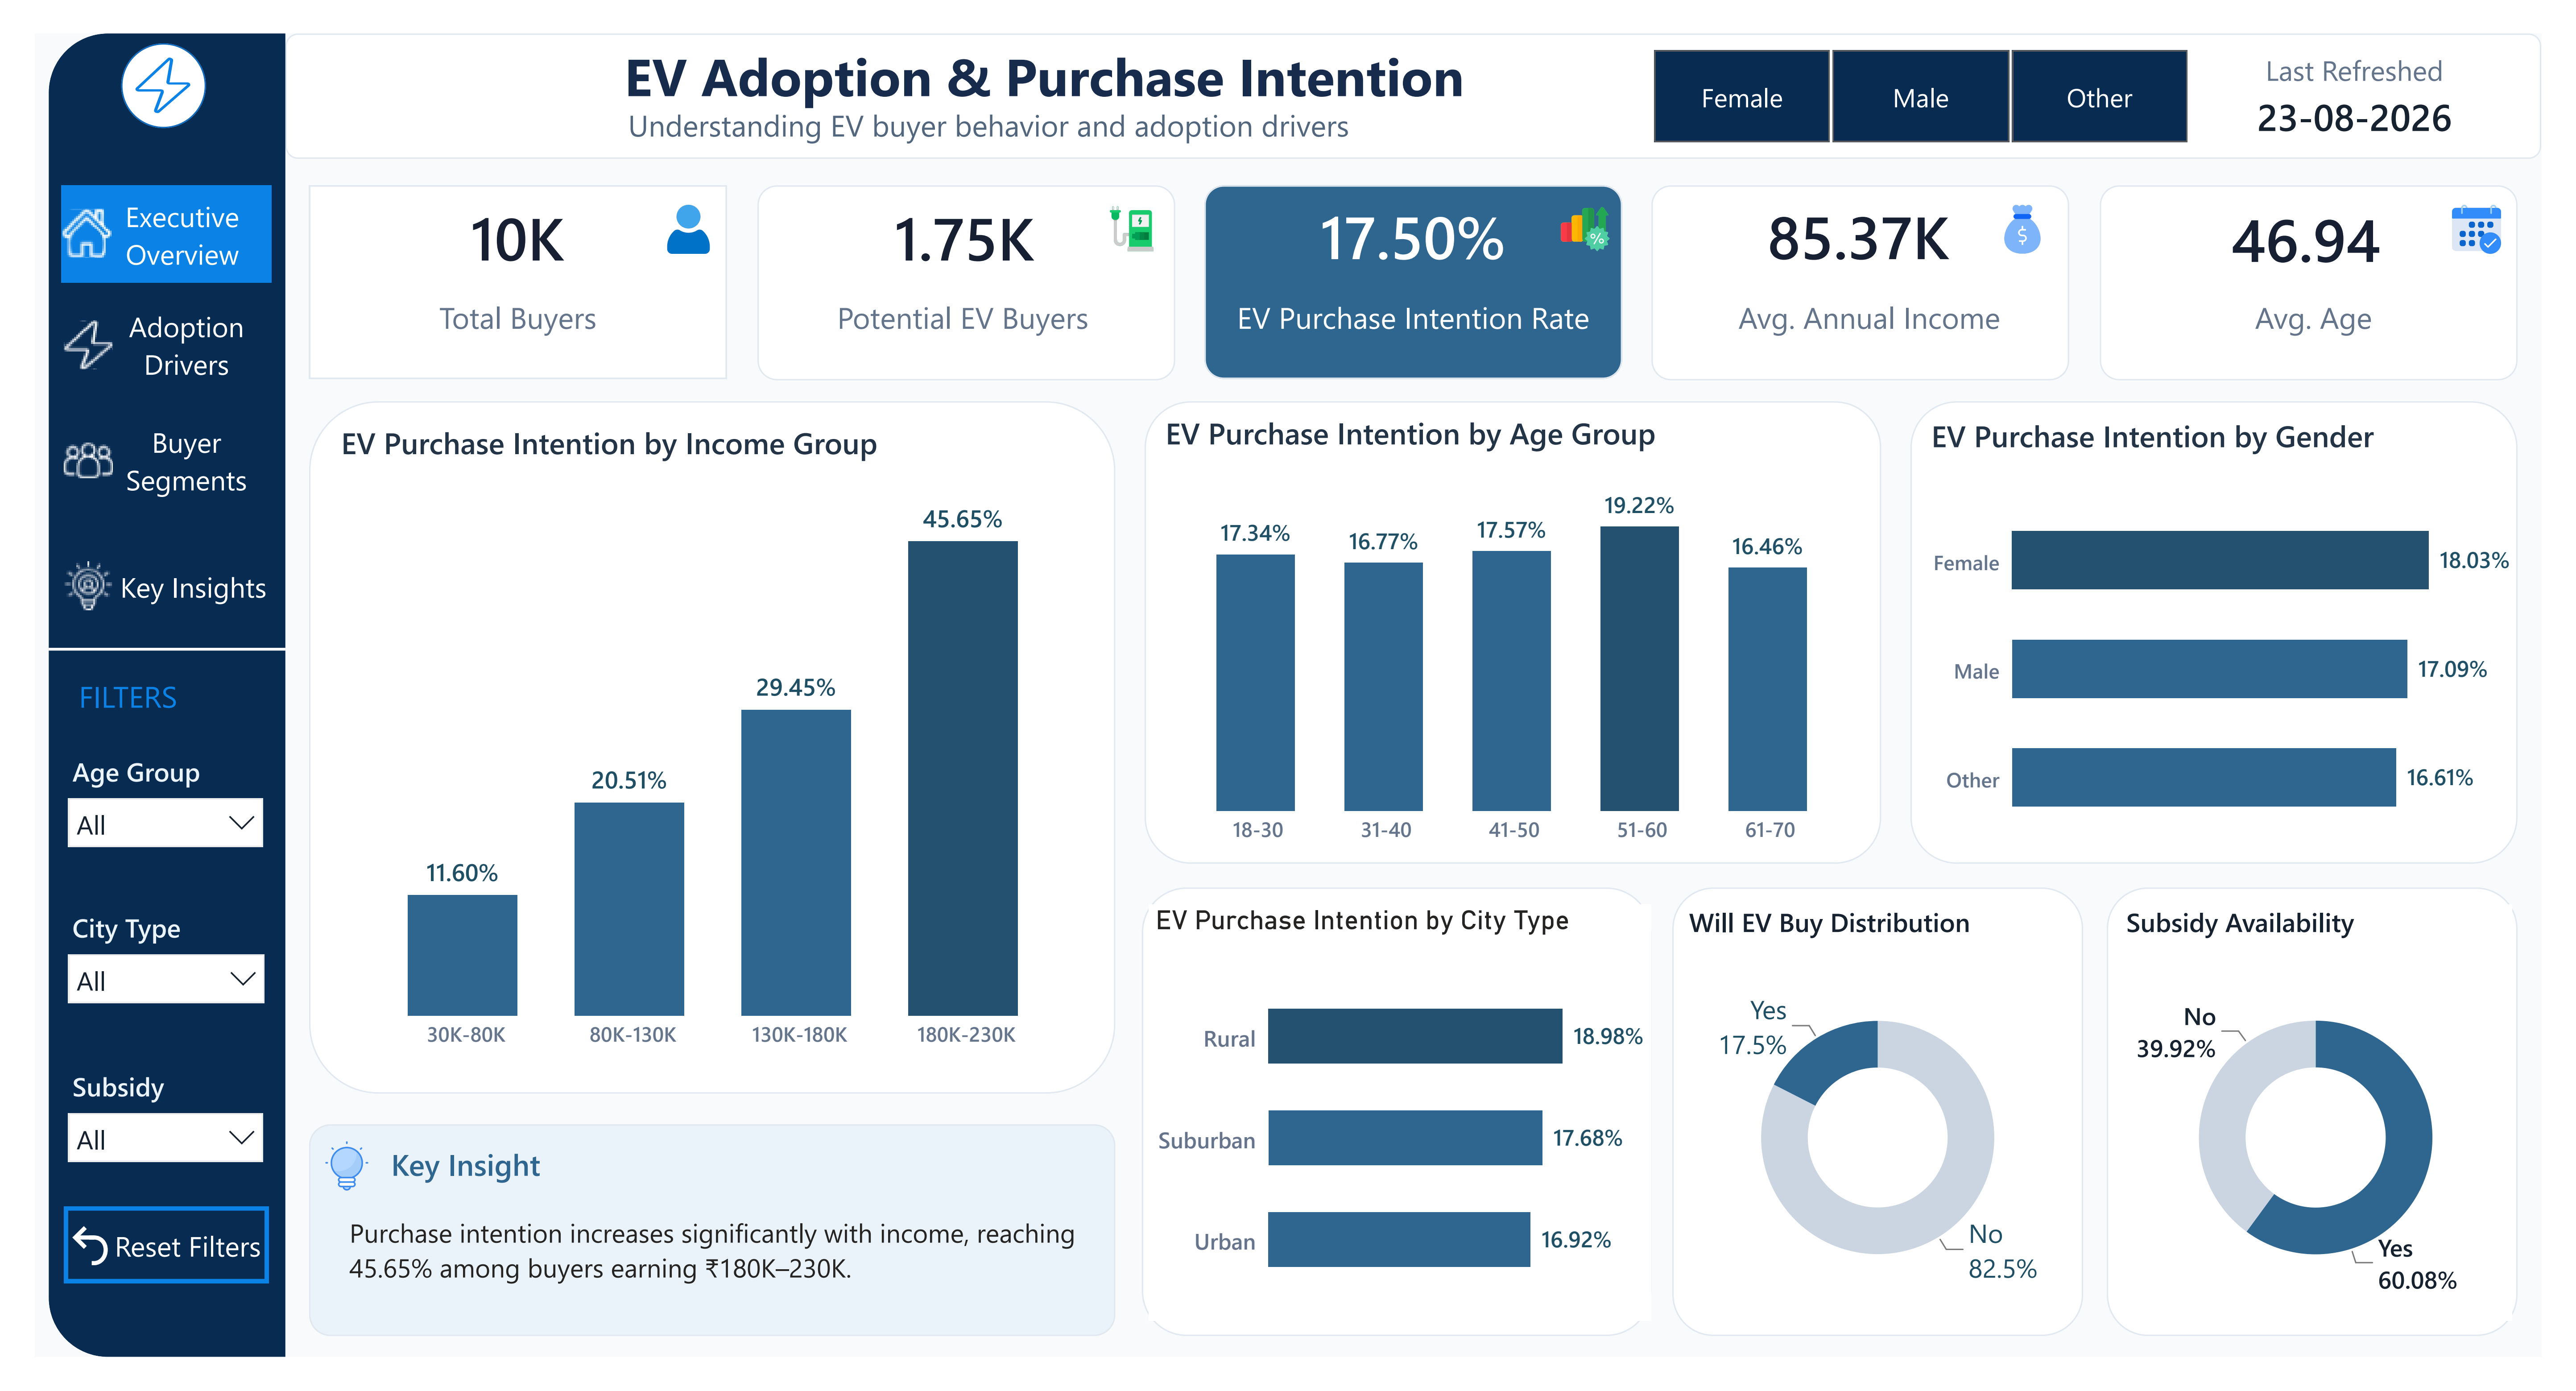

What the dashboard file says about the page in this screenshot:
{"tool":"powerbi","page":{"name":"Executive Overview","canvas":[1800,950],"ordinal":0},"visuals":[{"type":"shape","box":[180.5,0,1619.1,90],"z":0},{"type":"shape","box":[62.2,6.9,60.5,60.5],"z":0,"group":"g1"},{"type":"shape","box":[10.2,0,170,950],"z":1000},{"type":"image","box":[72.6,17.3,39.8,39.8],"z":1000,"group":"g1"},{"type":"textbox","box":[416,0,618,63],"z":2000},{"type":"textbox","box":[416,46,538,40],"z":3000},{"type":"shape","box":[197.5,108.9,299.6,139.6],"z":4000},{"type":"shape","box":[518.7,108.9,300,140],"z":5000},{"type":"shape","box":[840.2,108.9,299.6,139.6],"z":6000},{"type":"shape","box":[1161.4,108.9,300,140],"z":7000},{"type":"shape","box":[1482.9,108.9,300,140],"z":8000},{"type":"shape","box":[197.5,263.9,578.9,497.1],"z":9000},{"type":"shape","box":[1176.4,612.9,295,321.8],"z":10000},{"type":"shape","box":[1346.7,263.9,435.8,332],"z":11000},{"type":"shape","box":[796.8,263.9,529.5,332],"z":12000},{"type":"shape","box":[795.1,612.9,366,321.8],"z":13000},{"type":"shape","box":[1488,612.9,295,321.8],"z":14000},{"type":"cardVisual","fields":{"Data":["_Measures.Total Buyers"]},"box":[275.8,106,141.3,75],"z":15000},{"type":"textbox","box":[279.2,183.9,136.2,45],"z":16000},{"type":"cardVisual","fields":{"Data":["_Measures.Potential EV Buyers"]},"box":[582.3,106,171.2,76.1],"z":17000},{"type":"textbox","box":[558.4,183.9,216.2,44.3],"z":18000},{"type":"cardVisual","fields":{"Data":["_Measures.EV Purchase Intention Rate"]},"box":[887,103.9,206,78.3],"z":19000},{"type":"textbox","box":[849.7,183.9,280,44.5],"z":20000},{"type":"cardVisual","fields":{"Data":["_Measures.Avg Annual Income"]},"box":[1212.2,106,195.5,75],"z":21000},{"type":"textbox","box":[1208.8,183.9,216.8,44.5],"z":22000},{"type":"cardVisual","fields":{"Data":["_Measures.Avg Age"]},"box":[1526,106,210,78],"z":23000},{"type":"textbox","box":[1564.6,183.9,143.2,44.5],"z":24000},{"type":"clusteredColumnChart","title":"EV Purchase Intention by Income Group","fields":{"Category":["ev_adoption.Income Group"],"Y":["_Measures.EV Purchase Intention Rate"]},"box":[214.5,279.2,549.9,459.7],"z":25000},{"type":"shape","box":[197.5,783.2,578.9,151.5],"z":26000},{"type":"clusteredColumnChart","title":"EV Purchase Intention by Age Group","fields":{"Y":["_Measures.EV Purchase Intention Rate"],"Category":["ev_adoption.age_group"]},"box":[807,272.4,510.8,320.1],"z":27000},{"type":"clusteredBarChart","title":"EV Purchase Intention by Gender","fields":{"Category":["ev_adoption.gender"],"Y":["_Measures.EV Purchase Intention Rate"]},"box":[1356.9,274.1,425.6,321.8],"z":28000},{"type":"clusteredBarChart","title":"EV Purchase Intention by City Type","fields":{"Category":["ev_adoption.city_type"],"Y":["_Measures.EV Purchase Intention Rate"]},"box":[800.2,624.8,360.9,299.6],"z":29000},{"type":"donutChart","title":"Will EV Buy Distribution","fields":{"Category":["ev_adoption.will_buy_ev"],"Y":["_Measures.Total Buyers"]},"box":[1183.2,624.8,280.9,299.6],"z":30000},{"type":"donutChart","title":"Subsidy Availability","fields":{"Category":["ev_adoption.subsidy_available"],"Y":["_Measures.Total Buyers"]},"box":[1496.5,624.8,282.6,299.6],"z":31000},{"type":"textbox","box":[250.3,791.7,119.2,40.9],"z":32000},{"type":"textbox","box":[221.3,842.7,536.3,64.7],"z":33000},{"type":"slicer","fields":{"Values":["ev_adoption.age_group"]},"box":[13.8,511.8,160.6,89],"z":34000},{"type":"slicer","fields":{"Values":["ev_adoption.city_type"]},"box":[13.8,624.2,160.8,89.9],"z":35000},{"type":"slicer","fields":{"Values":["ev_adoption.subsidy_available"]},"box":[13.8,738.3,160.6,89],"z":36000},{"type":"actionButton","box":[20.7,842.1,147,55.3],"z":37000},{"type":"shape","box":[18.7,109,151.5,69.8],"z":38000},{"type":"group","id":"g1","title":"Group 1","box":[62.2,6.9,60.5,60.5],"z":39000},{"type":"actionButton","box":[20.4,109,145.2,69.2],"z":40000},{"type":"actionButton","box":[20.7,188.5,150.4,69.2],"z":41000},{"type":"actionButton","box":[20.7,271.5,150.4,69.2],"z":42000},{"type":"actionButton","box":[20.7,361.4,150.4,69.2],"z":43000},{"type":"shape","box":[10.4,435.7,169.5,12.1],"z":44000},{"type":"textbox","box":[10.4,456.5,114.1,38],"z":45000},{"type":"cardVisual","fields":{"Data":["_Measures.Last Refreshed"]},"box":[1535.4,0,262.8,89.9],"z":46000},{"type":"image","box":[451.2,122.6,35.8,35.8],"z":47000},{"type":"image","box":[769.5,122.6,35.8,35.8],"z":48000},{"type":"image","box":[1096.4,122.6,35,35],"z":49000},{"type":"image","box":[1409.7,122.6,35,35],"z":50000},{"type":"image","box":[1734.9,122.6,35.8,35.8],"z":51000},{"type":"image","box":[206,795.1,35.8,35.8],"z":52000},{"type":"slicer","fields":{"Values":["ev_adoption.gender"]},"box":[1137.3,5.1,432.4,80],"z":53000}]}

Visuals, with their boxes on the page's 1800x950 design canvas (x1, y1, x2, y2). These are canvas units, not pixel positions in the 2576x1391 screenshot, which may show the page scaled, cropped or inside an application window:
shape: BBox(180, 0, 1800, 90)
shape: BBox(62, 7, 123, 67)
shape: BBox(10, 0, 180, 950)
image: BBox(73, 17, 112, 57)
textbox: BBox(416, 0, 1034, 63)
textbox: BBox(416, 46, 954, 86)
shape: BBox(198, 109, 497, 248)
shape: BBox(519, 109, 819, 249)
shape: BBox(840, 109, 1140, 248)
shape: BBox(1161, 109, 1461, 249)
shape: BBox(1483, 109, 1783, 249)
shape: BBox(198, 264, 776, 761)
shape: BBox(1176, 613, 1471, 935)
shape: BBox(1347, 264, 1782, 596)
shape: BBox(797, 264, 1326, 596)
shape: BBox(795, 613, 1161, 935)
shape: BBox(1488, 613, 1783, 935)
cardVisual - _Measures.Total Buyers: BBox(276, 106, 417, 181)
textbox: BBox(279, 184, 415, 229)
cardVisual - _Measures.Potential EV Buyers: BBox(582, 106, 754, 182)
textbox: BBox(558, 184, 775, 228)
cardVisual - _Measures.EV Purchase Intention Rate: BBox(887, 104, 1093, 182)
textbox: BBox(850, 184, 1130, 228)
cardVisual - _Measures.Avg Annual Income: BBox(1212, 106, 1408, 181)
textbox: BBox(1209, 184, 1426, 228)
cardVisual - _Measures.Avg Age: BBox(1526, 106, 1736, 184)
textbox: BBox(1565, 184, 1708, 228)
"EV Purchase Intention by Income Group" clusteredColumnChart: BBox(214, 279, 764, 739)
shape: BBox(198, 783, 776, 935)
"EV Purchase Intention by Age Group" clusteredColumnChart: BBox(807, 272, 1318, 592)
"EV Purchase Intention by Gender" clusteredBarChart: BBox(1357, 274, 1782, 596)
"EV Purchase Intention by City Type" clusteredBarChart: BBox(800, 625, 1161, 924)
"Will EV Buy Distribution" donutChart: BBox(1183, 625, 1464, 924)
"Subsidy Availability" donutChart: BBox(1496, 625, 1779, 924)
textbox: BBox(250, 792, 370, 833)
textbox: BBox(221, 843, 758, 907)
slicer - ev_adoption.age_group: BBox(14, 512, 174, 601)
slicer - ev_adoption.city_type: BBox(14, 624, 175, 714)
slicer - ev_adoption.subsidy_available: BBox(14, 738, 174, 827)
actionButton: BBox(21, 842, 168, 897)
shape: BBox(19, 109, 170, 179)
"Group 1" group: BBox(62, 7, 123, 67)
actionButton: BBox(20, 109, 166, 178)
actionButton: BBox(21, 188, 171, 258)
actionButton: BBox(21, 272, 171, 341)
actionButton: BBox(21, 361, 171, 431)
shape: BBox(10, 436, 180, 448)
textbox: BBox(10, 456, 124, 494)
cardVisual - _Measures.Last Refreshed: BBox(1535, 0, 1798, 90)
image: BBox(451, 123, 487, 158)
image: BBox(770, 123, 805, 158)
image: BBox(1096, 123, 1131, 158)
image: BBox(1410, 123, 1445, 158)
image: BBox(1735, 123, 1771, 158)
image: BBox(206, 795, 242, 831)
slicer - ev_adoption.gender: BBox(1137, 5, 1570, 85)
